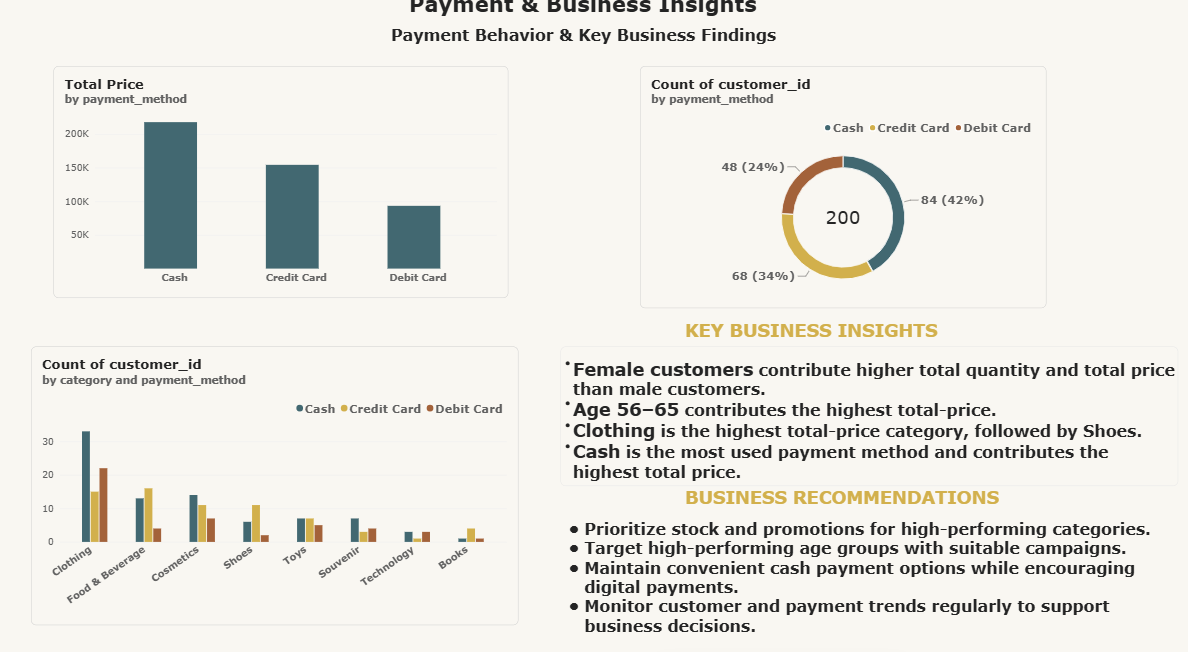

The page's visual inventory and layout, read from the dashboard file:
{"tool":"powerbi","page":{"name":"Payment & Business Insights","canvas":[1920,1080],"ordinal":2},"visuals":[{"type":"textbox","box":[677.8,26.7,626.7,75.6],"z":0},{"type":"textbox","box":[648.9,80,655.6,44.4],"z":1000},{"type":"clusteredColumnChart","fields":{"Category":["customers_analysis (1).category"],"Y":["CountNonNull(customers_analysis (1).customer_id)"],"Series":["customers_analysis (1).payment_method"]},"box":[104.4,564.4,737.8,422.2],"z":2000},{"type":"donutChart","fields":{"Category":["customers_analysis (1).payment_method"],"Y":["CountNonNull(customers_analysis (1).customer_id)"]},"box":[1026.7,140,615.6,366.7],"z":3000},{"type":"clusteredColumnChart","title":"Total Price","fields":{"Category":["customers_analysis (1).payment_method"],"Y":["customers_analysis (1).Total Sales"]},"box":[137.8,140,688.9,351.1],"z":4000},{"type":"textbox","box":[906.7,564.4,935.6,211.1],"z":5000},{"type":"textbox","box":[1094.8,776.8,477,50],"z":6000},{"type":"textbox","box":[1095.6,524.4,475.6,40],"z":7000},{"type":"textbox","box":[906.7,826.7,902.2,206.7],"z":8000}]}

Visuals, with their boxes in screenshot pixels (x1, y1, x2, y2), scaled from the page's 1920x1080 canvas onto the 1188x652 screenshot:
textbox: bbox=[419, 16, 807, 62]
textbox: bbox=[402, 48, 807, 75]
clusteredColumnChart - customers_analysis (1).category x CountNonNull(customers_analysis (1).customer_id): bbox=[65, 341, 521, 596]
donutChart - customers_analysis (1).payment_method x CountNonNull(customers_analysis (1).customer_id): bbox=[635, 85, 1016, 306]
"Total Price" clusteredColumnChart: bbox=[85, 85, 512, 296]
textbox: bbox=[561, 341, 1140, 468]
textbox: bbox=[677, 469, 973, 499]
textbox: bbox=[678, 317, 972, 341]
textbox: bbox=[561, 499, 1119, 624]
